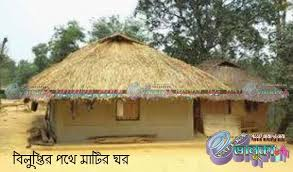Mud House: (29, 39, 207, 147), (190, 51, 281, 140)
